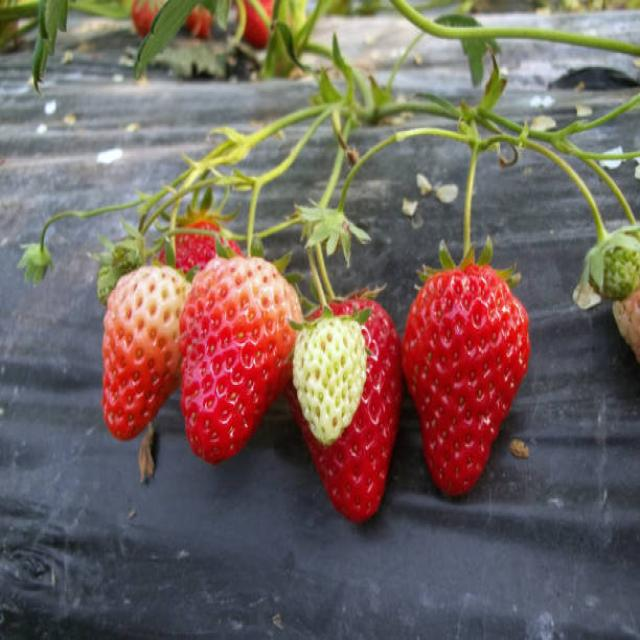Healthy Fruit: (399, 267, 529, 497), (175, 258, 304, 462), (101, 262, 191, 441), (295, 315, 370, 444)
